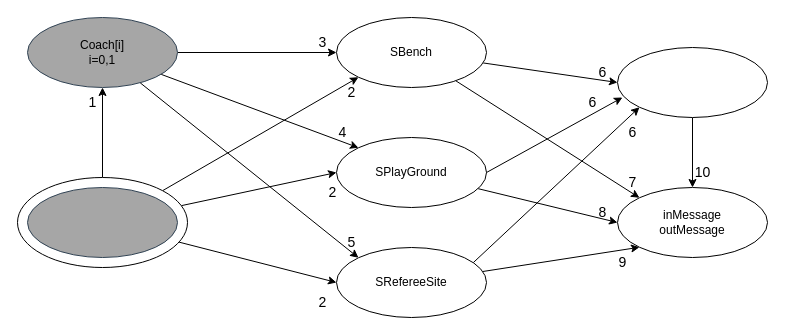
Image size: 785x335. Some labels were removed from this diagram. The shapes that lost their labels are listed below. From the top down, each one's centre as x and y in pixels, then its label:
At point (692, 82): "com".
At point (102, 222): "ClientCoach".
